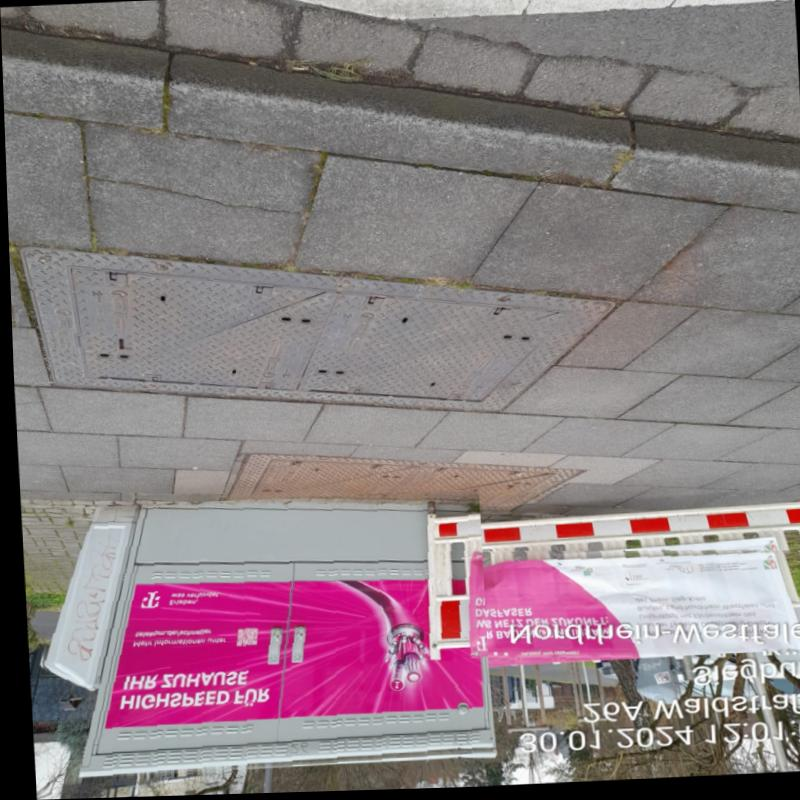Banner: (454, 551, 800, 667)
NT-Gehause: (36, 506, 487, 780)
